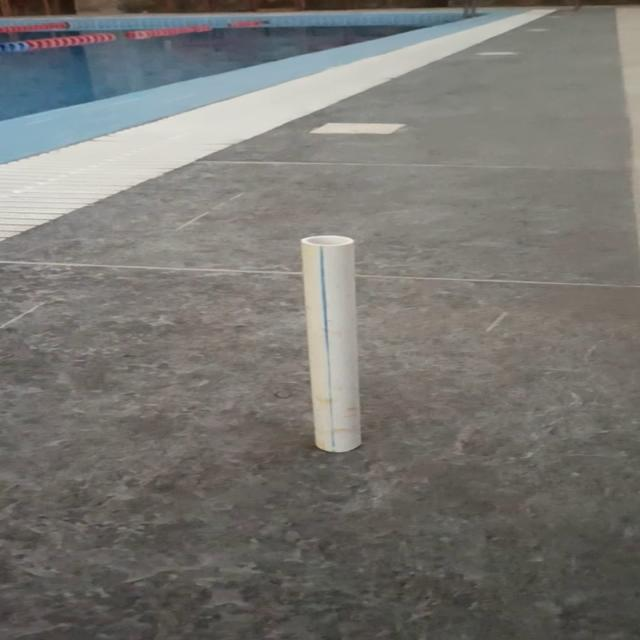Cube: (298, 234, 362, 452)
